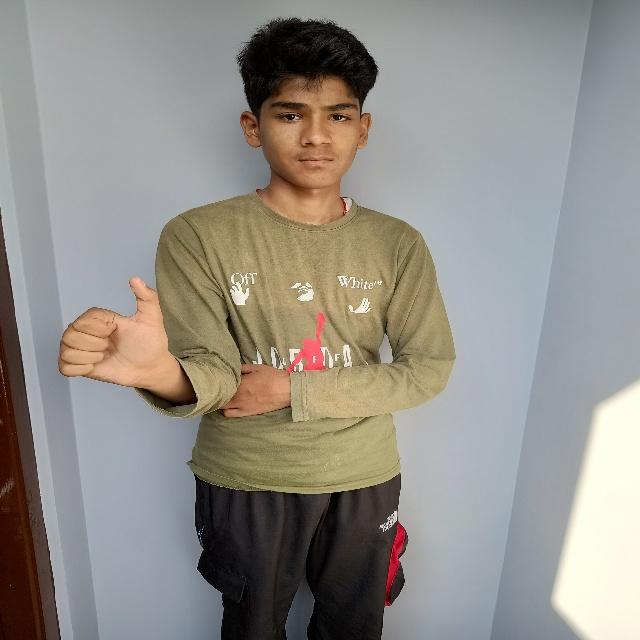Thumbs Up: (49, 264, 177, 402)
